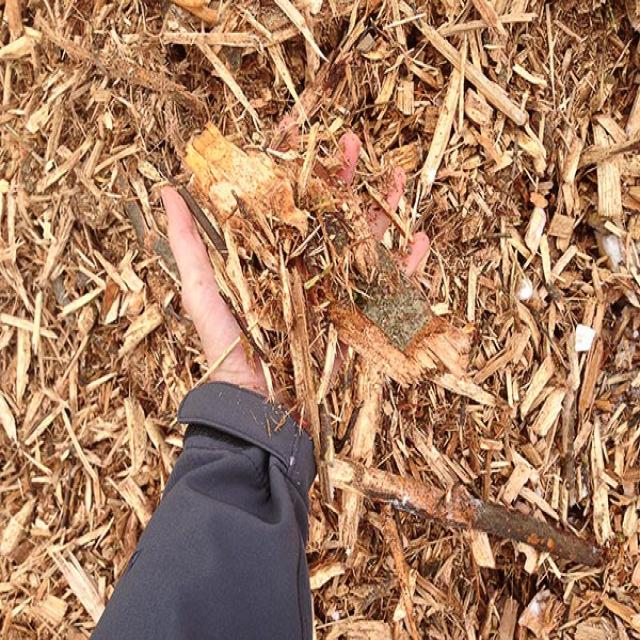green waste: (1, 4, 636, 640)
